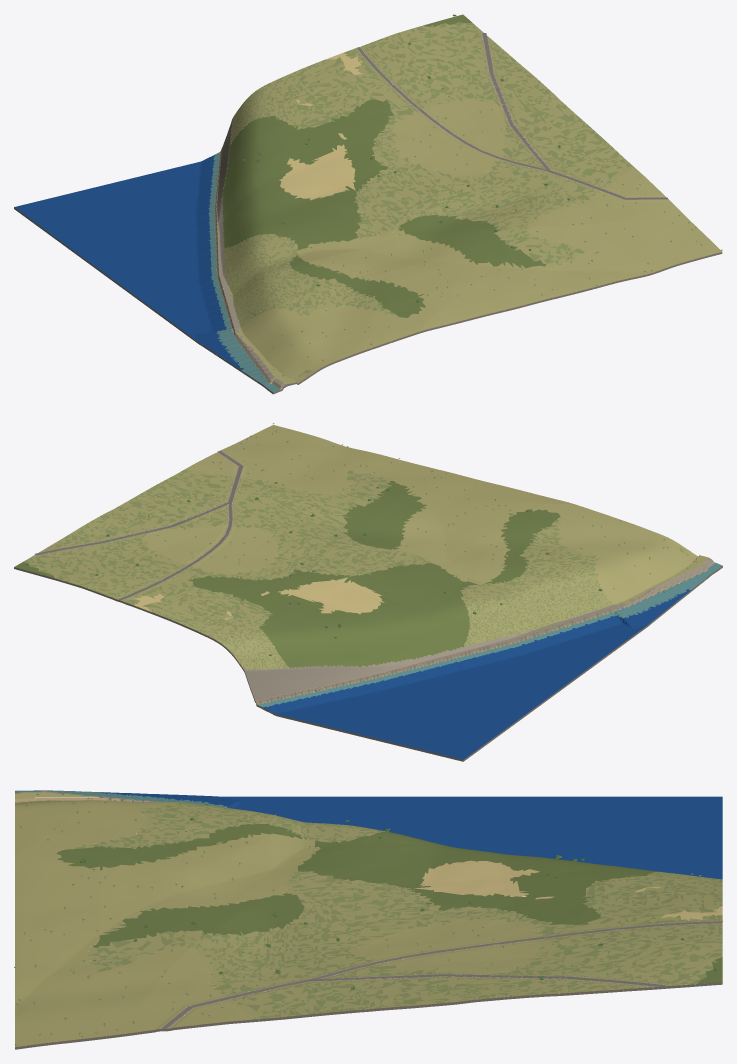
The model's file is parca_-1_-8-yakin.glb.
3 views of the same model, one above another, from view 1: azimuth 30°, elevation 25°; view 2: azimuth 150°, elevation 25°; view 3: azimuth 270°, elevation 25° (orthographic). The views are drawn at different scales.
Parts seen in each view (by area): view 1: parca_-1_-8_arazi, parca_-1_-8_yollar, parca_-1_-8_bitkiler; view 2: parca_-1_-8_arazi, parca_-1_-8_yollar, parca_-1_-8_bitkiler; view 3: parca_-1_-8_arazi, parca_-1_-8_yollar, parca_-1_-8_bitkiler.
Boxes of the visible parts, left/top/right/bottom form: parca_-1_-8_arazi: left=14, top=14, right=722, bottom=394; parca_-1_-8_yollar: left=357, top=33, right=667, bottom=199; parca_-1_-8_bitkiler: left=236, top=14, right=722, bottom=375; parca_-1_-8_arazi: left=14, top=425, right=722, bottom=761; parca_-1_-8_yollar: left=35, top=451, right=242, bottom=600; parca_-1_-8_bitkiler: left=26, top=423, right=696, bottom=656; parca_-1_-8_arazi: left=15, top=790, right=722, bottom=1049; parca_-1_-8_yollar: left=162, top=921, right=722, bottom=1029; parca_-1_-8_bitkiler: left=14, top=793, right=718, bottom=1046.
Size of the model in its own units: 1003 by 189 by 1002.
